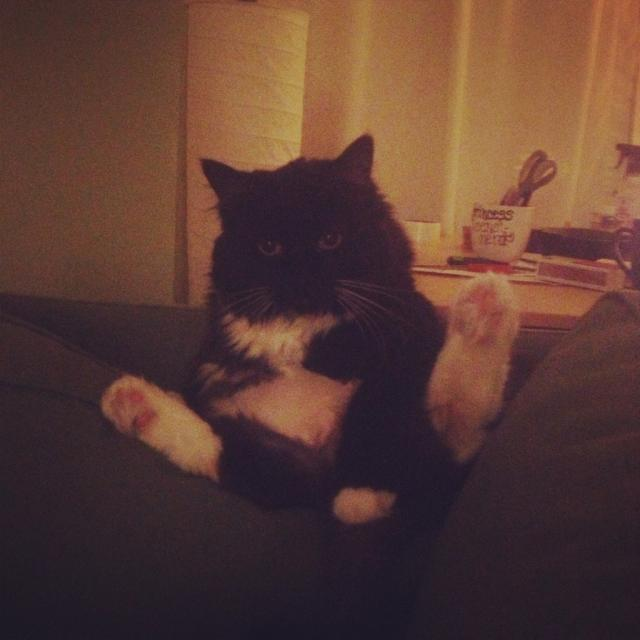Cat: (98, 135, 516, 536)
